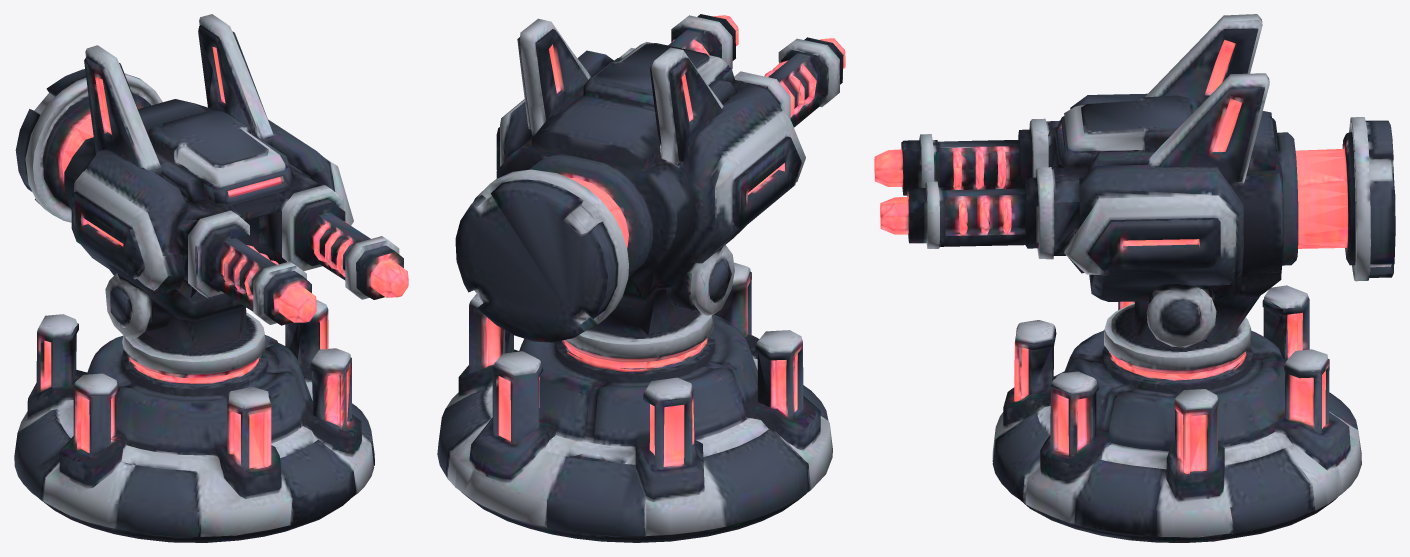
Rendered from warrior-5-tier-3.glb.
3 views of the same model, side by side, from view 1: azimuth 30°, elevation 25°; view 2: azimuth 150°, elevation 25°; view 3: azimuth 270°, elevation 25° (orthographic). The views are drawn at different scales.
Visible parts, largest first — view 1: moving-assembly, fixed-platform; view 2: moving-assembly, fixed-platform; view 3: moving-assembly, fixed-platform.
Part boxes in pixels (box(x1,y1,x2,y2)): moving-assembly: box(15, 14, 408, 362); fixed-platform: box(14, 299, 374, 542); moving-assembly: box(455, 14, 845, 344); fixed-platform: box(437, 262, 832, 542); moving-assembly: box(874, 14, 1395, 357); fixed-platform: box(992, 285, 1361, 542).
Bounding box in the file's own units: 0.6759 × 0.8529 × 0.9544.
Materials: 1 (1 with a texture image).
